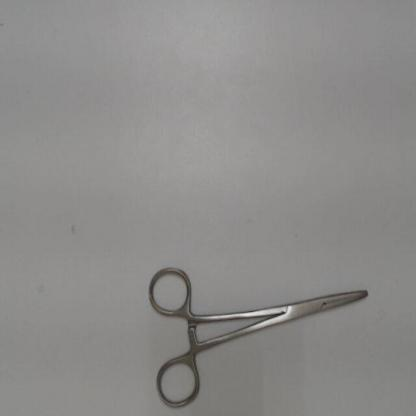Mayo Needle Holder: (139, 258, 376, 412)
